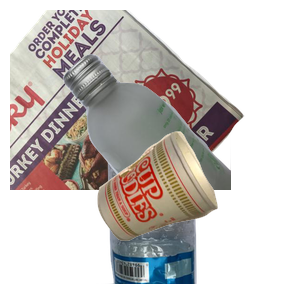glass: (60, 51, 300, 231)
paper: (10, 10, 247, 190)
plastic: (96, 120, 285, 300)
trash: (95, 129, 300, 300)
